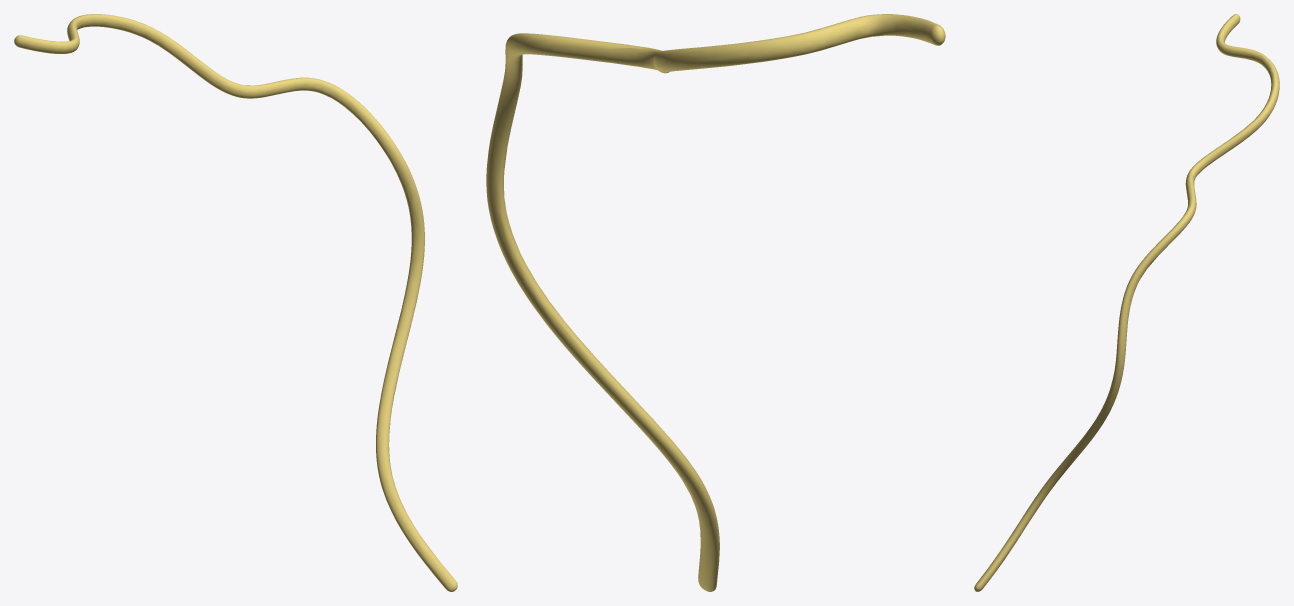
File: Trunk of left facial nerve.fbx
The picture shows the model from 3 angles, left to right: view 1: azimuth 30°, elevation 25°; view 2: azimuth 150°, elevation 25°; view 3: azimuth 270°, elevation 25°; orthographic projection. The views are drawn at different scales.
Parts seen in each view (by area): view 1: Trunk of left facial nerve; view 2: Trunk of left facial nerve; view 3: Trunk of left facial nerve.
Part boxes in pixels (x1,y1,x2,y2): Trunk of left facial nerve: [14, 14, 457, 591]; Trunk of left facial nerve: [486, 14, 945, 591]; Trunk of left facial nerve: [974, 14, 1279, 591].
Size of the model in its own units: 5.47 by 7.9 by 4.81.
